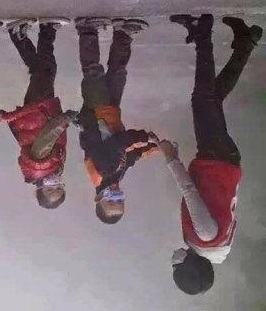person: (159, 13, 261, 291), (72, 12, 159, 226), (2, 15, 74, 210)
